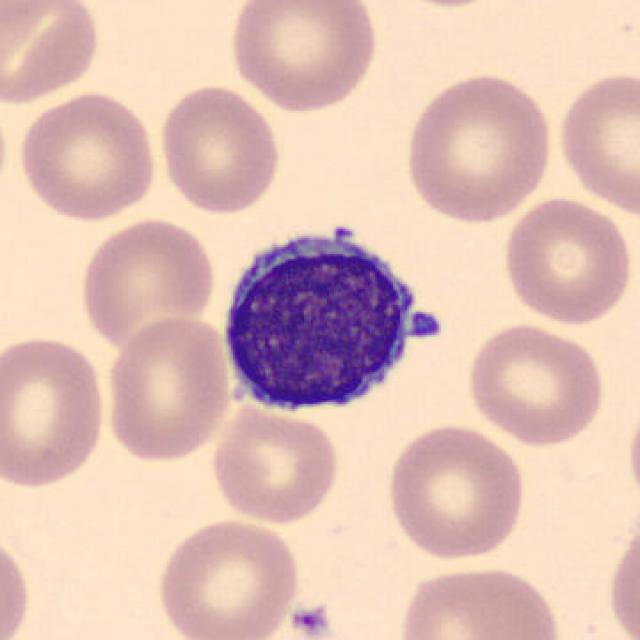Lymphocyte: (210, 208, 439, 425)
Platelets: (288, 600, 334, 638), (407, 309, 446, 340)
RBC: (400, 68, 556, 225), (382, 420, 530, 562), (100, 312, 234, 466), (14, 86, 162, 224), (74, 213, 218, 351), (153, 515, 304, 640), (462, 319, 608, 448), (224, 0, 382, 115), (500, 194, 634, 328), (0, 332, 110, 494), (154, 81, 284, 217), (208, 400, 343, 527), (391, 560, 567, 640), (553, 67, 640, 219), (0, 0, 103, 108), (604, 516, 639, 640), (0, 525, 34, 640), (624, 392, 640, 518), (368, 0, 515, 12)
